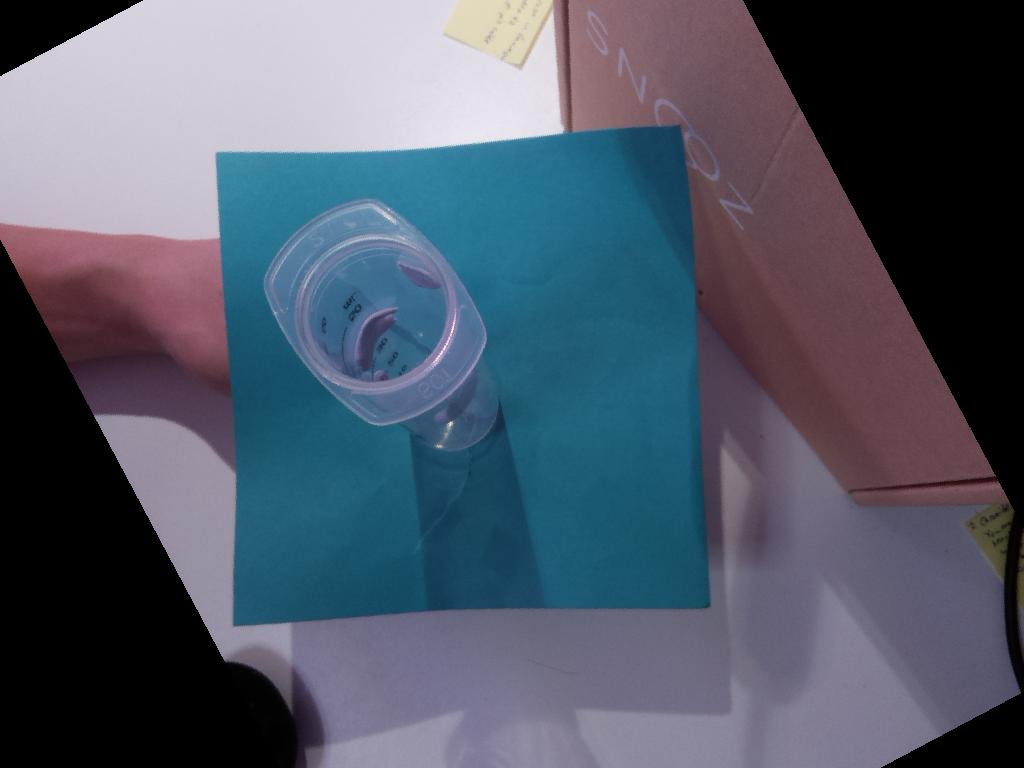dirty: (263, 198, 487, 429)
